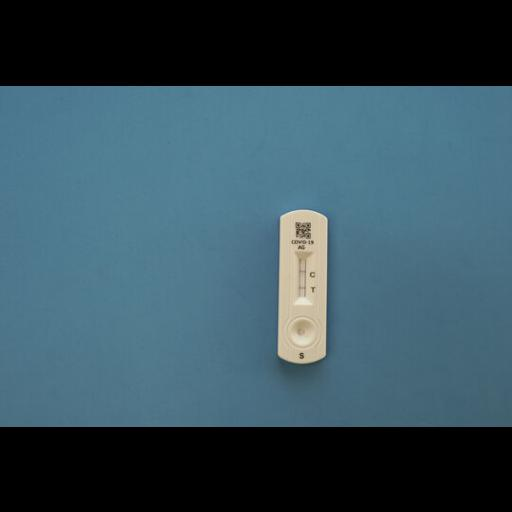Pos: (279, 208, 325, 362)
